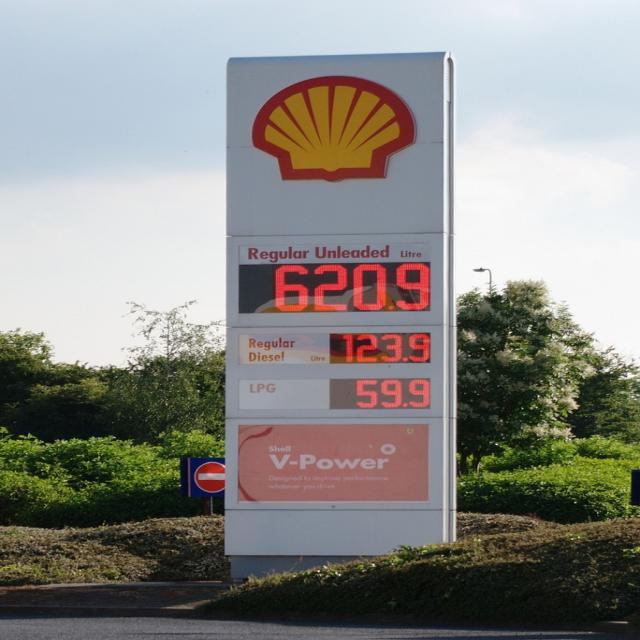shell: (252, 75, 417, 184)
